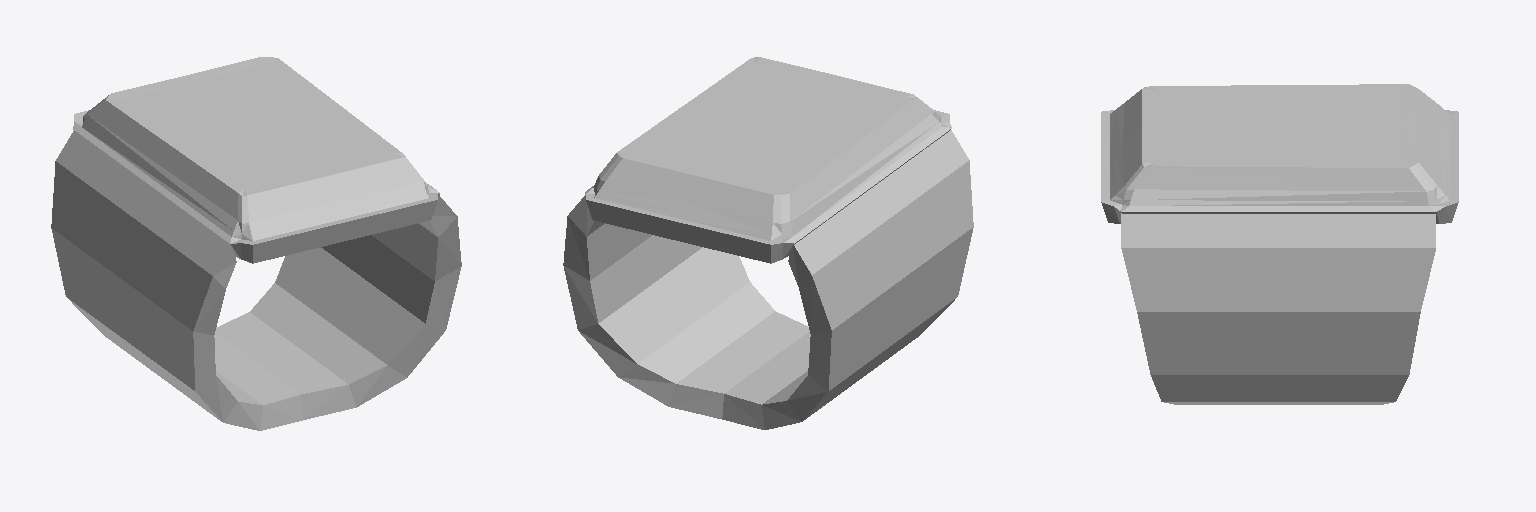
The model's file is MSH_Anillo.obj.
3 views of the same model, side by side, from view 1: azimuth 30°, elevation 25°; view 2: azimuth 150°, elevation 25°; view 3: azimuth 270°, elevation 25° (orthographic).
Parts seen in each view (by area): view 1: MSH_Anillo; view 2: MSH_Anillo; view 3: MSH_Anillo.
Boxes of the visible parts, box(x1,y1,x2,y2) form: MSH_Anillo: box(51, 57, 461, 430); MSH_Anillo: box(563, 57, 973, 429); MSH_Anillo: box(1101, 84, 1458, 404).
Size of the model in its own units: 1.36 by 1.26 by 1.57.